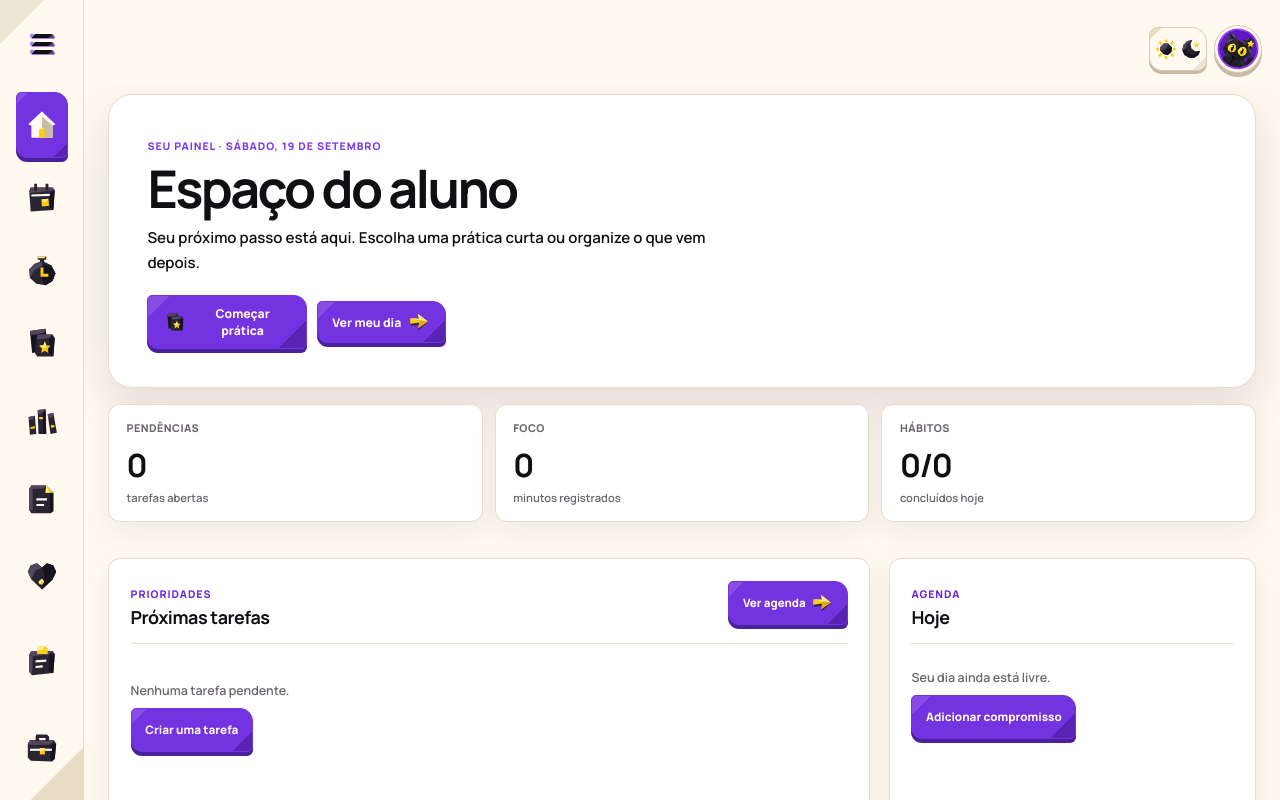
it: App › expande a navegação lateral para revelar categorias e nomes
Click the button named "Expandir menu lateral": (42, 44) 16,18 -> 68,70
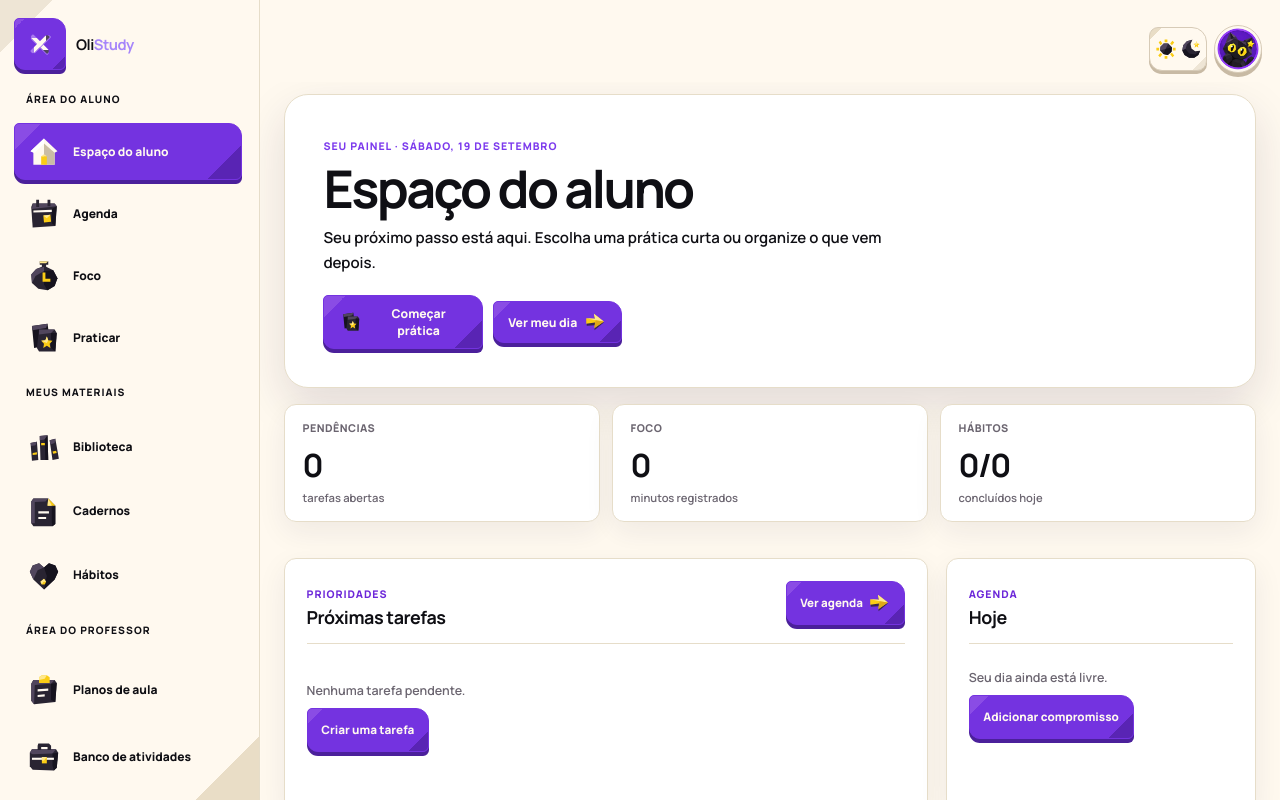
Now the button named "Recolher menu lateral" is shown, box 14,18 -> 66,70
Now the element labelled "OliStudy" is shown, box 76,37 -> 134,51
Now the text "Área do aluno" is shown, box 26,92 -> 120,106
